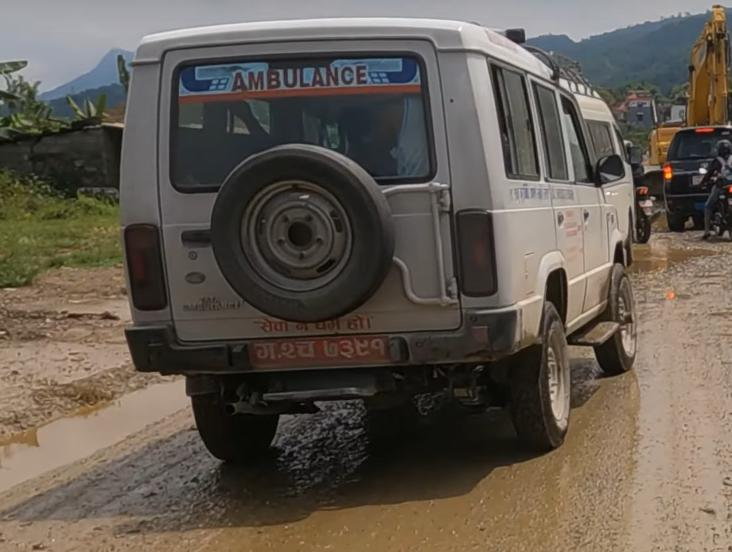ambulance: (113, 12, 653, 473)
